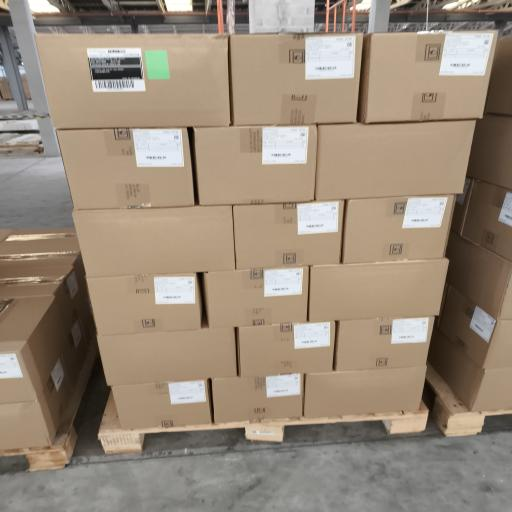pallet: (99, 392, 428, 453), (0, 337, 98, 471), (426, 364, 511, 436)
